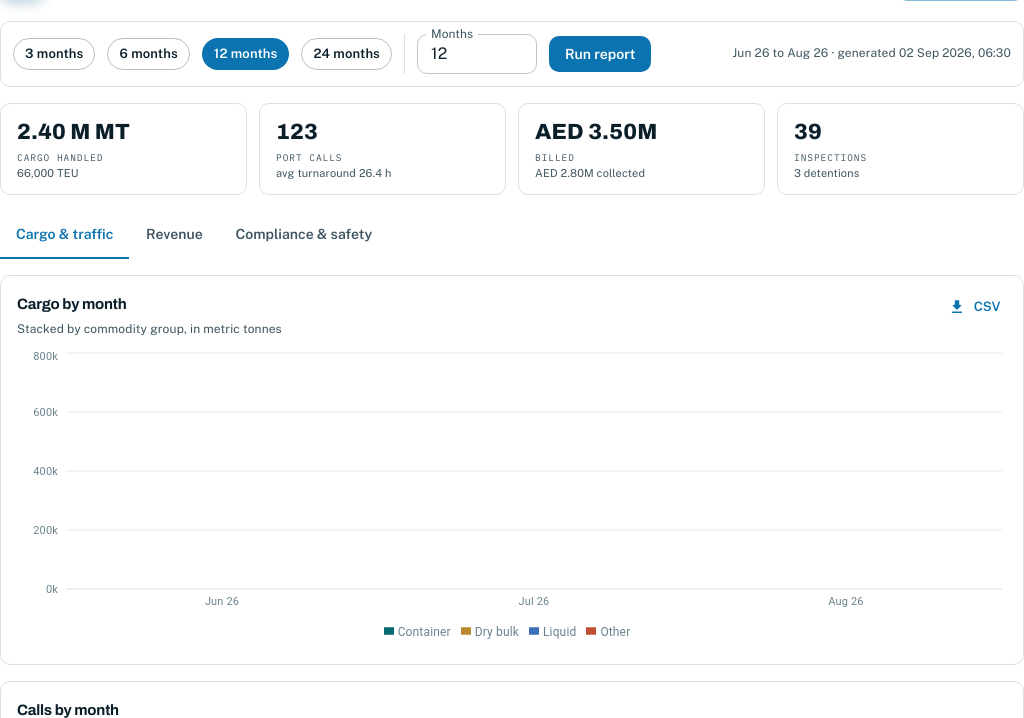
Test: MIS report › moves between the cargo, revenue and compliance views
Expected: the text "Port calls" is shown, left=276, top=151, right=342, bottom=164
Click the tab "Revenue".
click(174, 235)  # box left=129, top=211, right=219, bottom=259
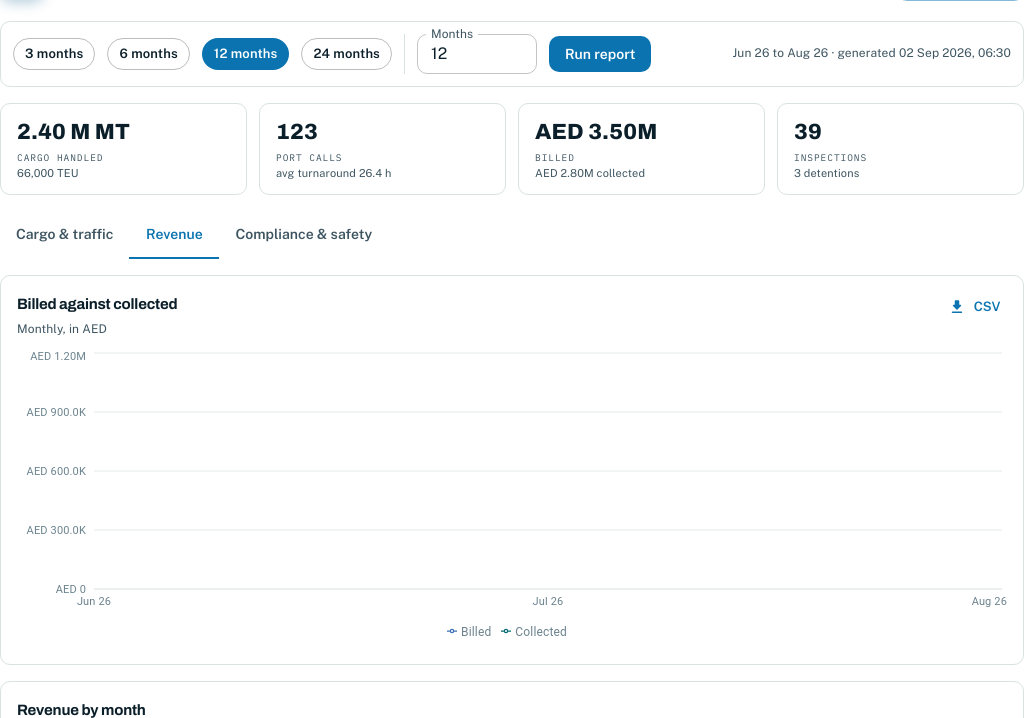
Expected: the heading "Billed against collected" is shown, left=17, top=292, right=177, bottom=316
Expected: the text "Monthly, in AED" is shown, left=17, top=322, right=107, bottom=336
Click the tab "Compliance & safety".
click(304, 235)  # box left=219, top=211, right=388, bottom=259
(page scrolled)
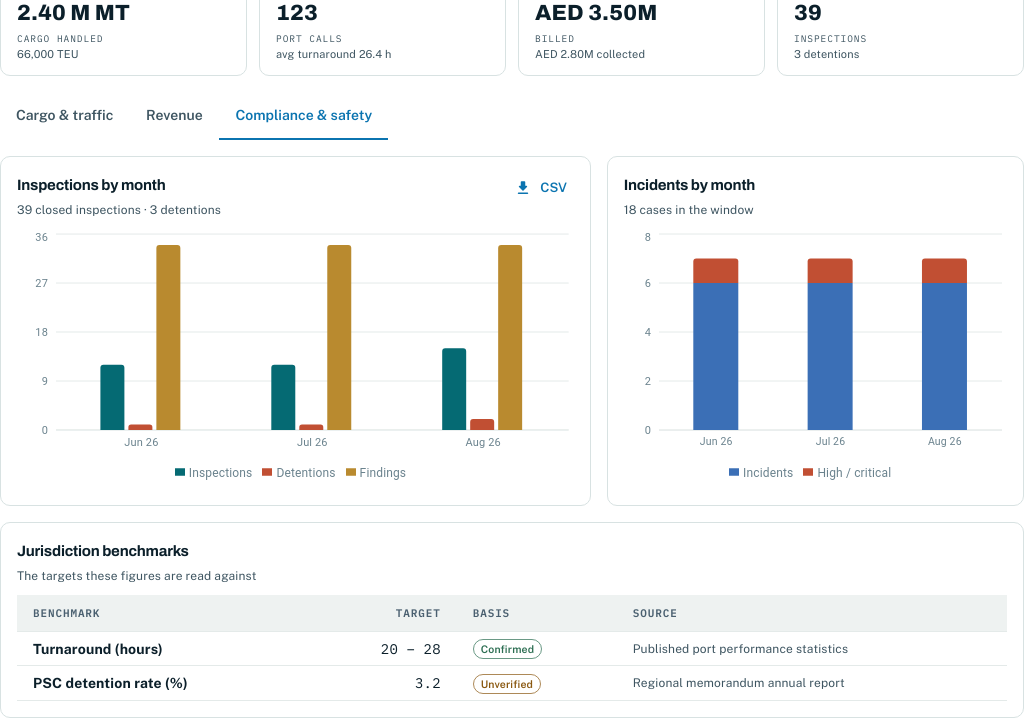
Expected: the text "39 closed inspections · 3 detentions" is shown, left=17, top=203, right=221, bottom=217
Expected: the text "18 cases in the window" is shown, left=624, top=203, right=754, bottom=217
Expected: the text "Turnaround (hours)" is shown, left=33, top=640, right=163, bottom=656
